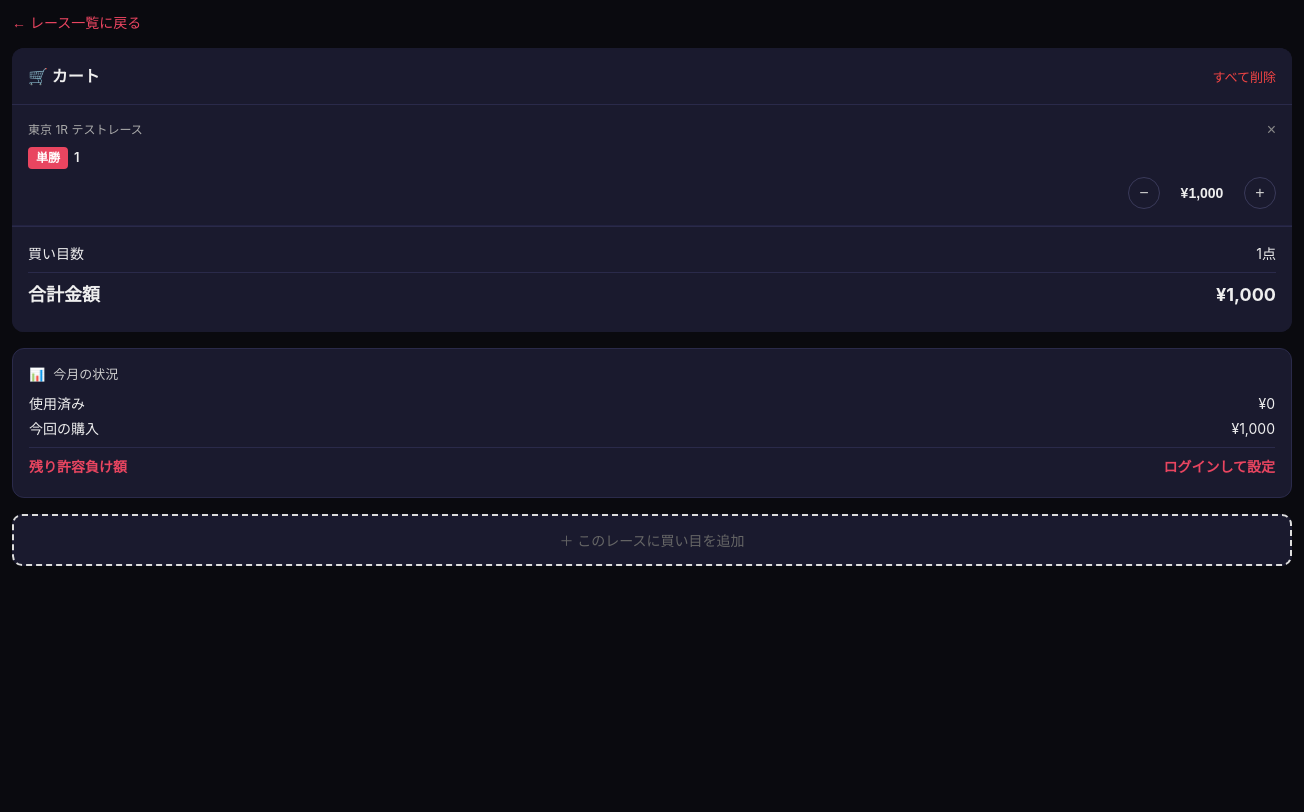
CartPage › 金額ステッパーUI › [+]ボタンで金額が100増える
Click the button named "金額を増やす": (1260, 193) [1244, 177, 1276, 209]
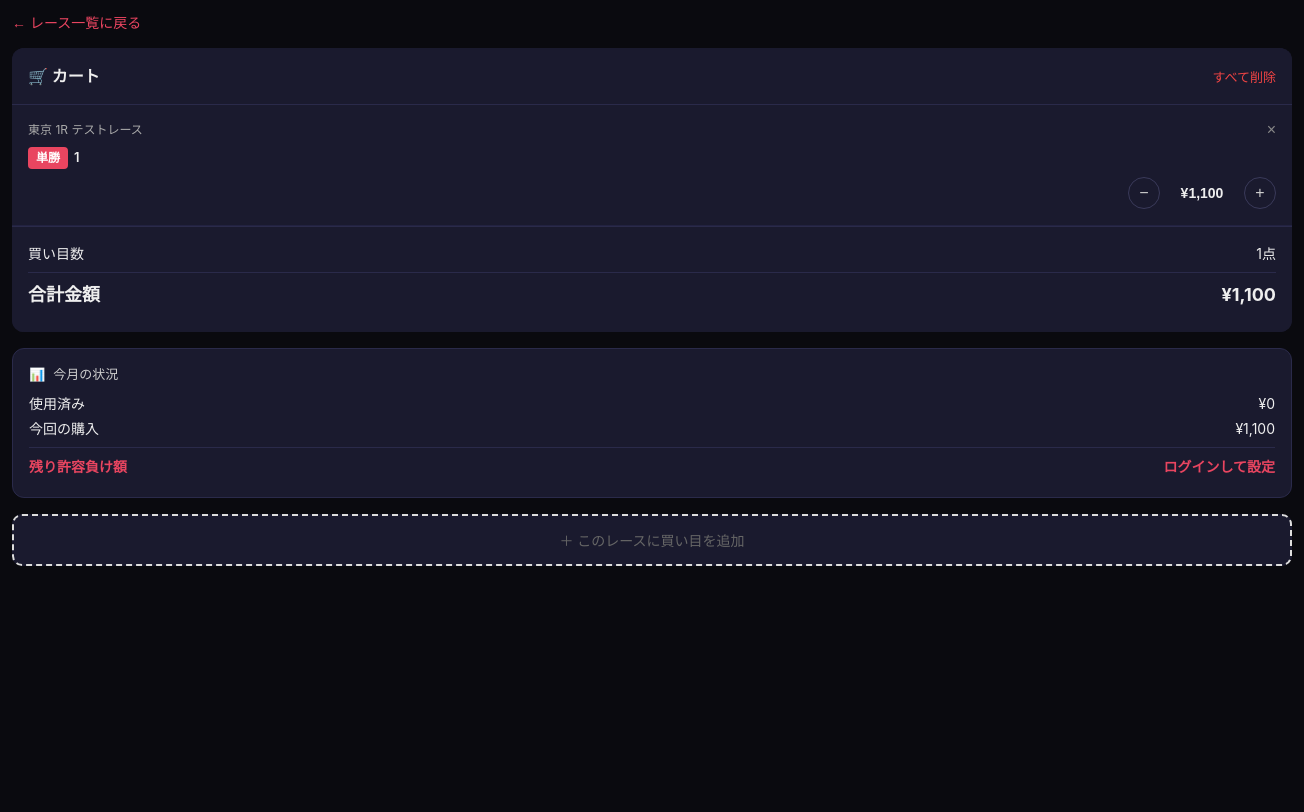
Expected: the button named "金額 1100円 タップで編集" is shown, [1164, 181, 1240, 205]
